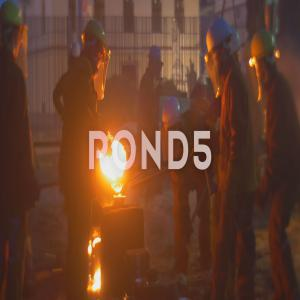blue: (207, 20, 233, 71), (164, 98, 184, 142), (149, 46, 162, 77), (70, 41, 82, 66)
yellow: (251, 29, 278, 85), (84, 20, 109, 71), (3, 2, 25, 58)
